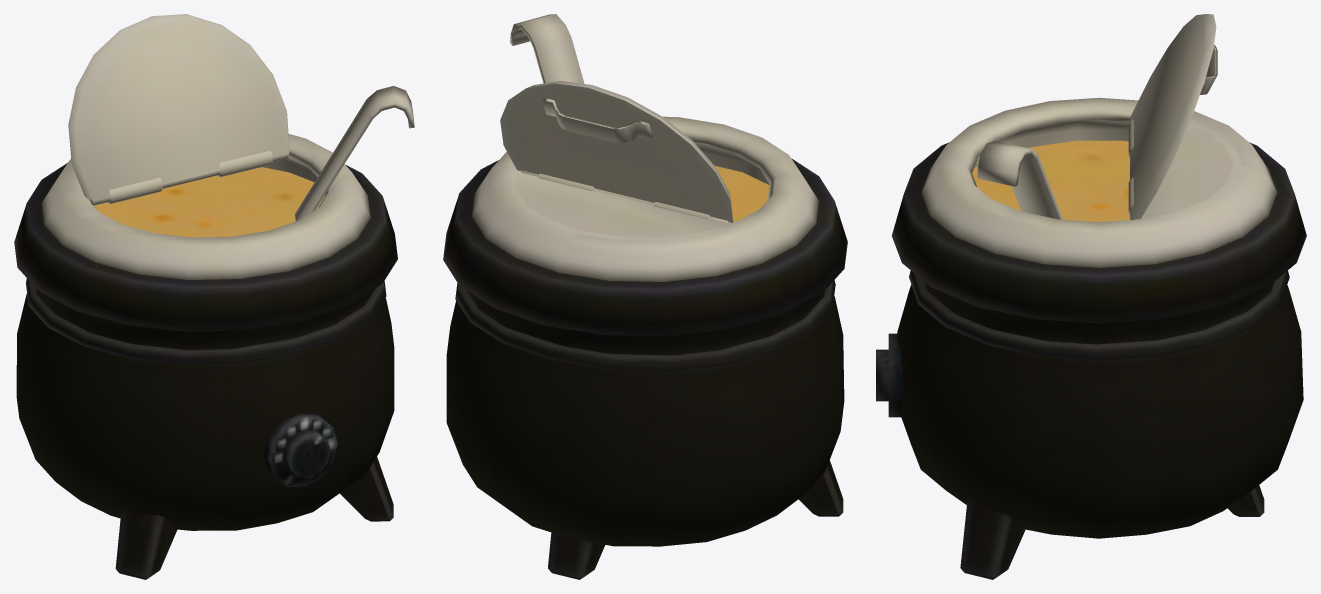
The picture shows the model from 3 angles, left to right: view 1: azimuth 30°, elevation 25°; view 2: azimuth 150°, elevation 25°; view 3: azimuth 270°, elevation 25°; orthographic projection. The views are drawn at different scales.
Bounding box in the file's own units: 5.27 × 6.75 × 5.46.
Materials: 1 (1 with a texture image).
